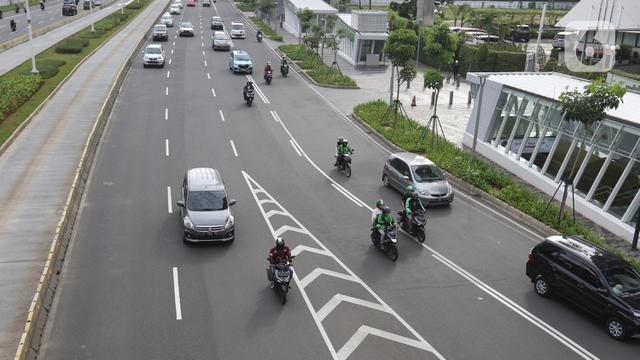car: (526, 235, 640, 340), (383, 152, 455, 210), (183, 169, 235, 246), (229, 50, 252, 74), (143, 42, 163, 65), (212, 31, 230, 53), (230, 21, 245, 40), (152, 25, 167, 41), (179, 21, 193, 36), (211, 16, 222, 31)
motorbike: (267, 237, 294, 307), (372, 198, 398, 264), (398, 186, 426, 244), (335, 136, 354, 178), (243, 80, 254, 107), (264, 62, 273, 88), (280, 56, 289, 81), (256, 30, 263, 42)
